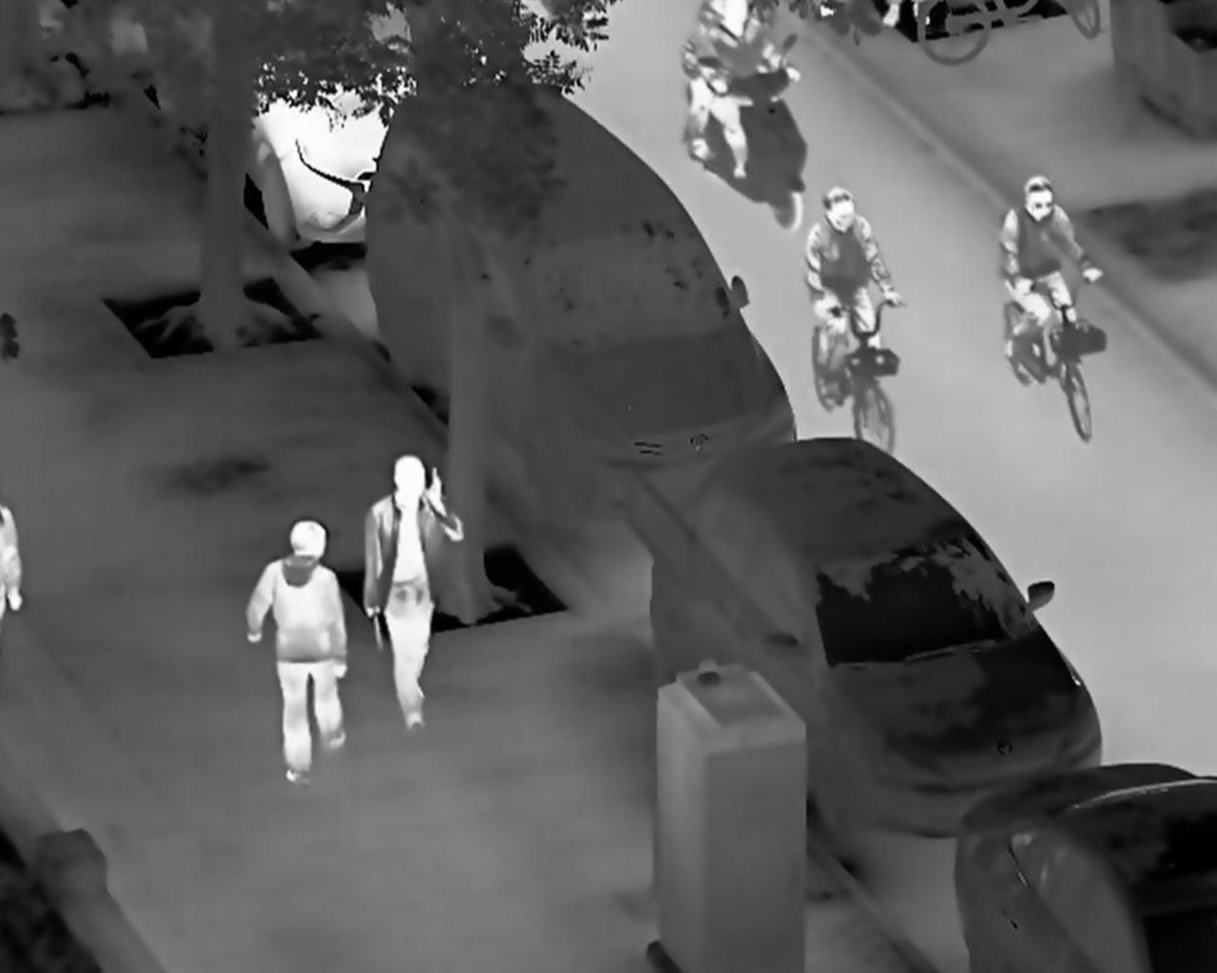person: (241, 517, 354, 788), (362, 455, 464, 734), (801, 185, 903, 397), (998, 173, 1104, 363)
